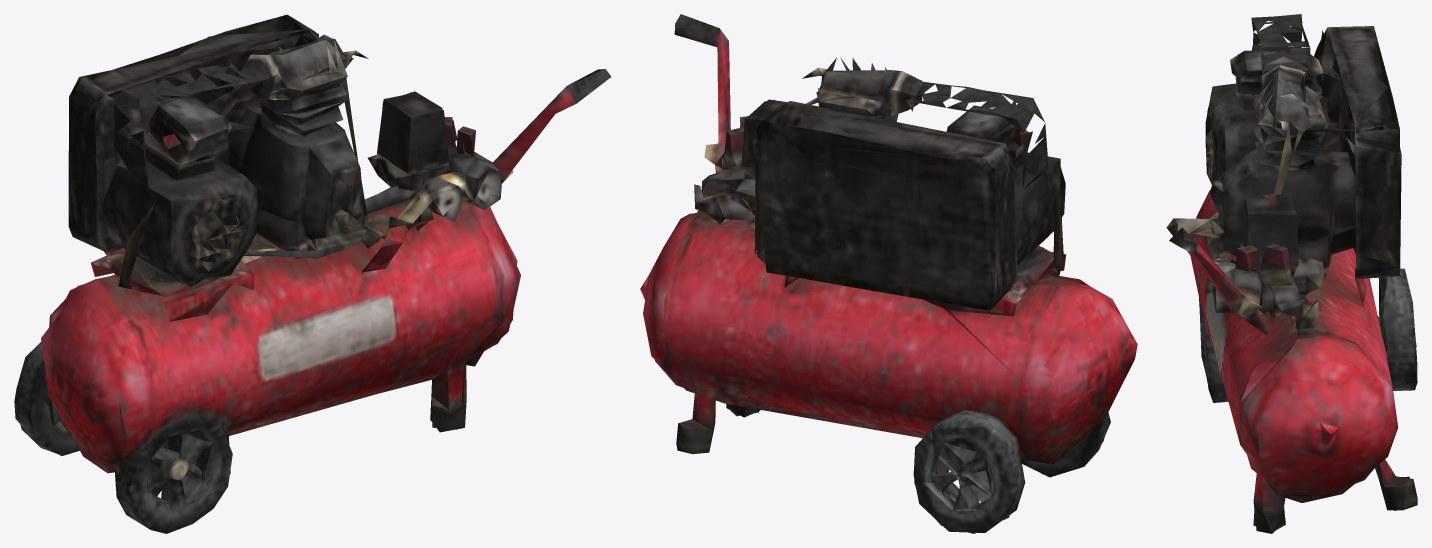
File: p7-air-compressor.glb
3 renders of one model, left to right at view 1: azimuth 30°, elevation 25°; view 2: azimuth 150°, elevation 25°; view 3: azimuth 270°, elevation 25°, orthographic. The views are drawn at different scales.
Visible parts, largest first — view 1: p7-air-compressor; view 2: p7-air-compressor; view 3: p7-air-compressor.
Part boxes in pixels (x1,y1,x2,y2): p7-air-compressor: (14, 14, 611, 533); p7-air-compressor: (640, 14, 1137, 533); p7-air-compressor: (1166, 14, 1417, 533).
Bounding box in the file's own units: 0.75 × 0.6 × 0.35.
Materials: 1 (1 with a texture image).
